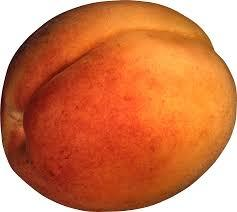non-mango: (0, 0, 236, 211)
